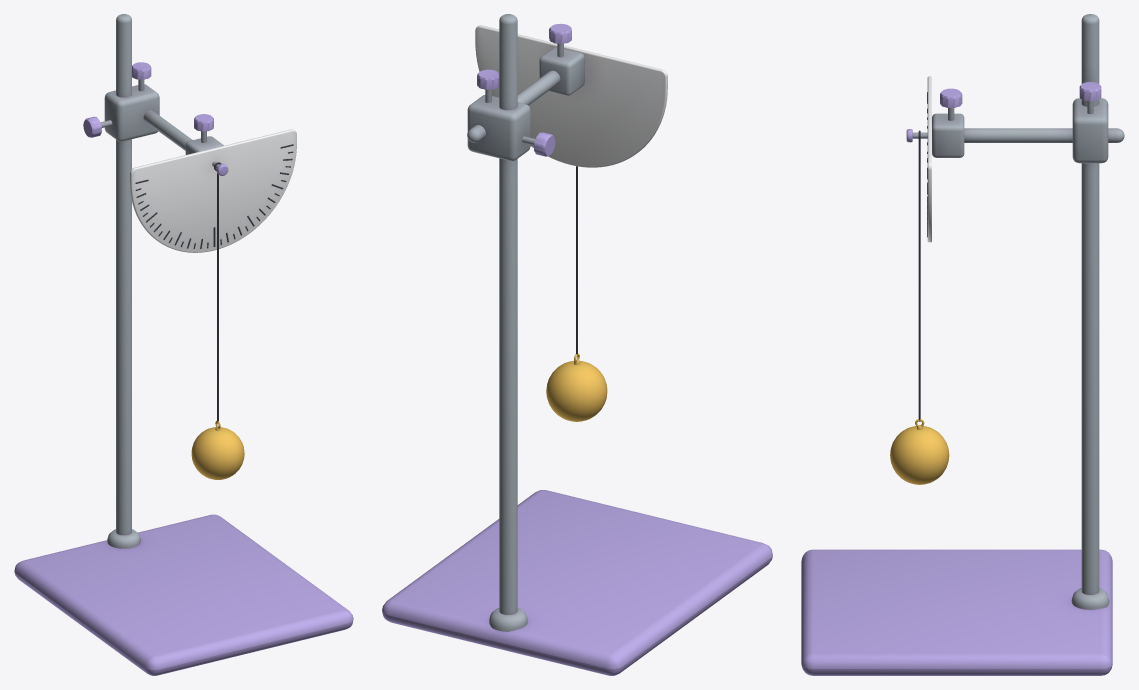
The model's file is pendulum.glb.
The picture shows the model from 3 angles, left to right: view 1: azimuth 30°, elevation 25°; view 2: azimuth 150°, elevation 25°; view 3: azimuth 270°, elevation 25°; orthographic projection. The views are drawn at different scales.
Parts seen in each view (by area): view 1: pendulum_body, pendulum_bob; view 2: pendulum_body, pendulum_bob; view 3: pendulum_body, pendulum_bob.
Boxes of the visible parts, bbox=[...] form: pendulum_body: bbox=[14, 14, 353, 675]; pendulum_bob: bbox=[191, 162, 244, 479]; pendulum_body: bbox=[382, 14, 772, 675]; pendulum_bob: bbox=[546, 166, 607, 421]; pendulum_body: bbox=[801, 14, 1124, 675]; pendulum_bob: bbox=[890, 130, 949, 484].
Bounding box in the file's own units: 0.18 × 0.452 × 0.218.
Materials: 2 (2 with a texture image).
